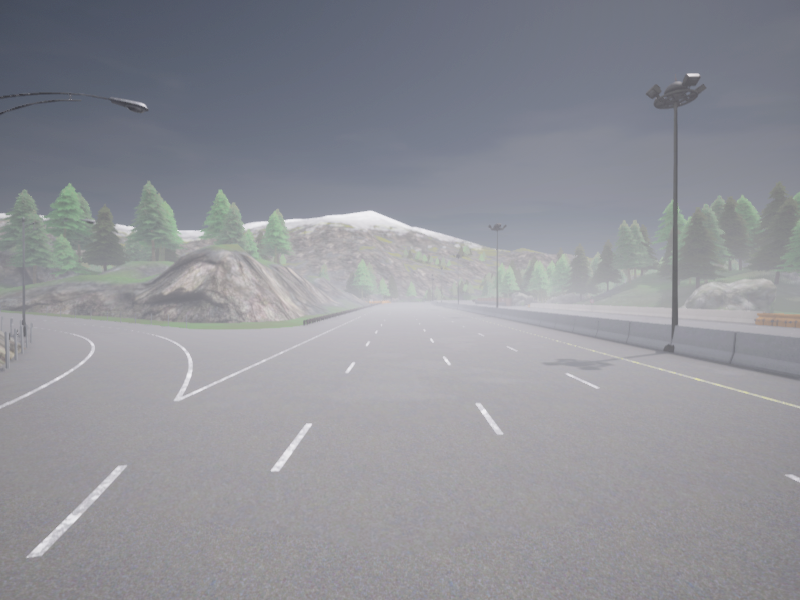vehicle: (473, 299, 476, 301)
